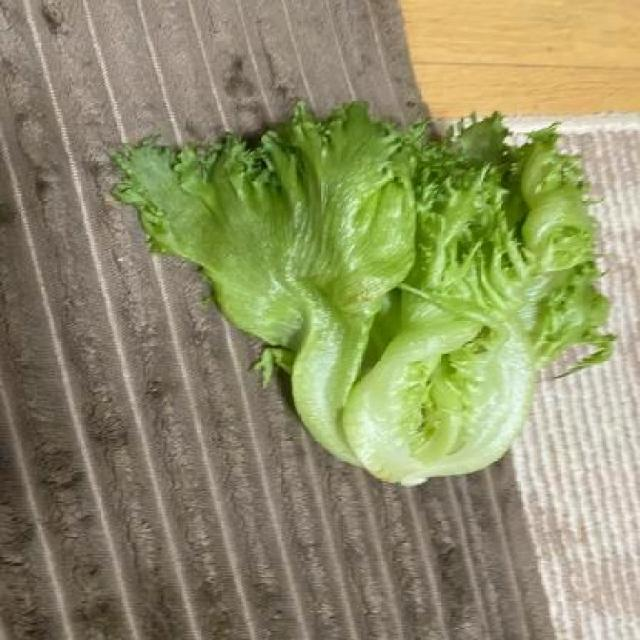Lettuce: (109, 89, 617, 492)
